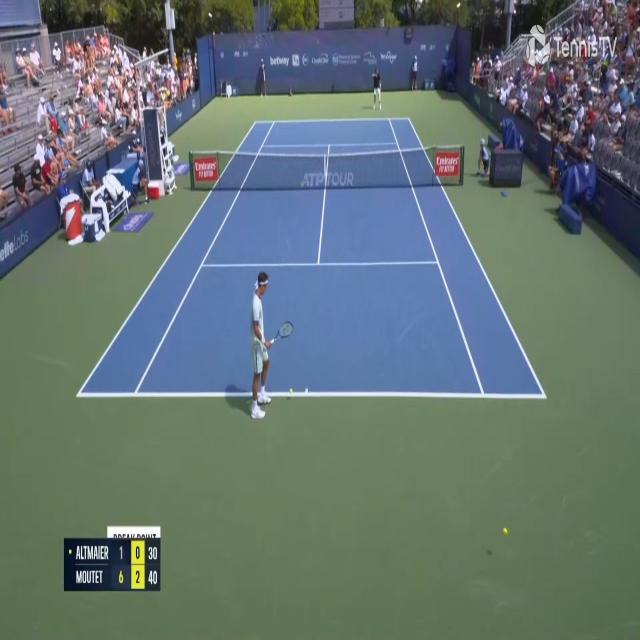tennis-player: (246, 267, 295, 422), (370, 66, 382, 111)
